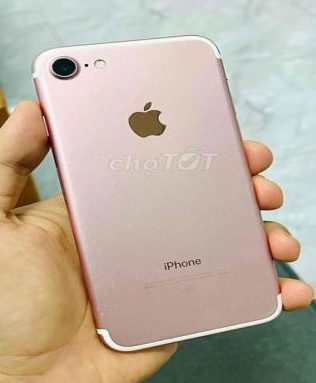scratch: (93, 302, 111, 321), (264, 303, 278, 315), (189, 298, 204, 306), (264, 269, 276, 278), (129, 276, 141, 284)
